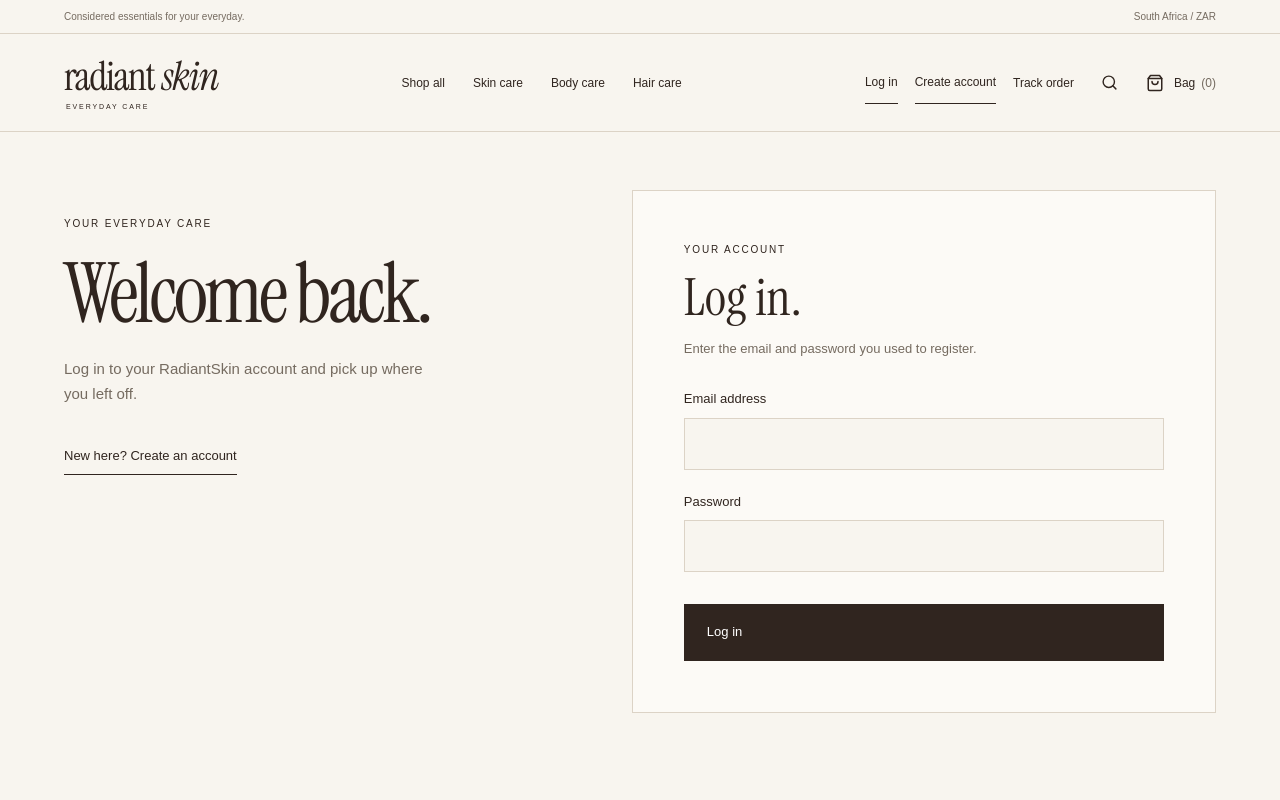
Test case: rejects an incorrect password and clears the password field
The image size is (1280, 800).
In the field labelled "Email address": (924, 444) [684,418,1164,470], type "Sam@Example.com"
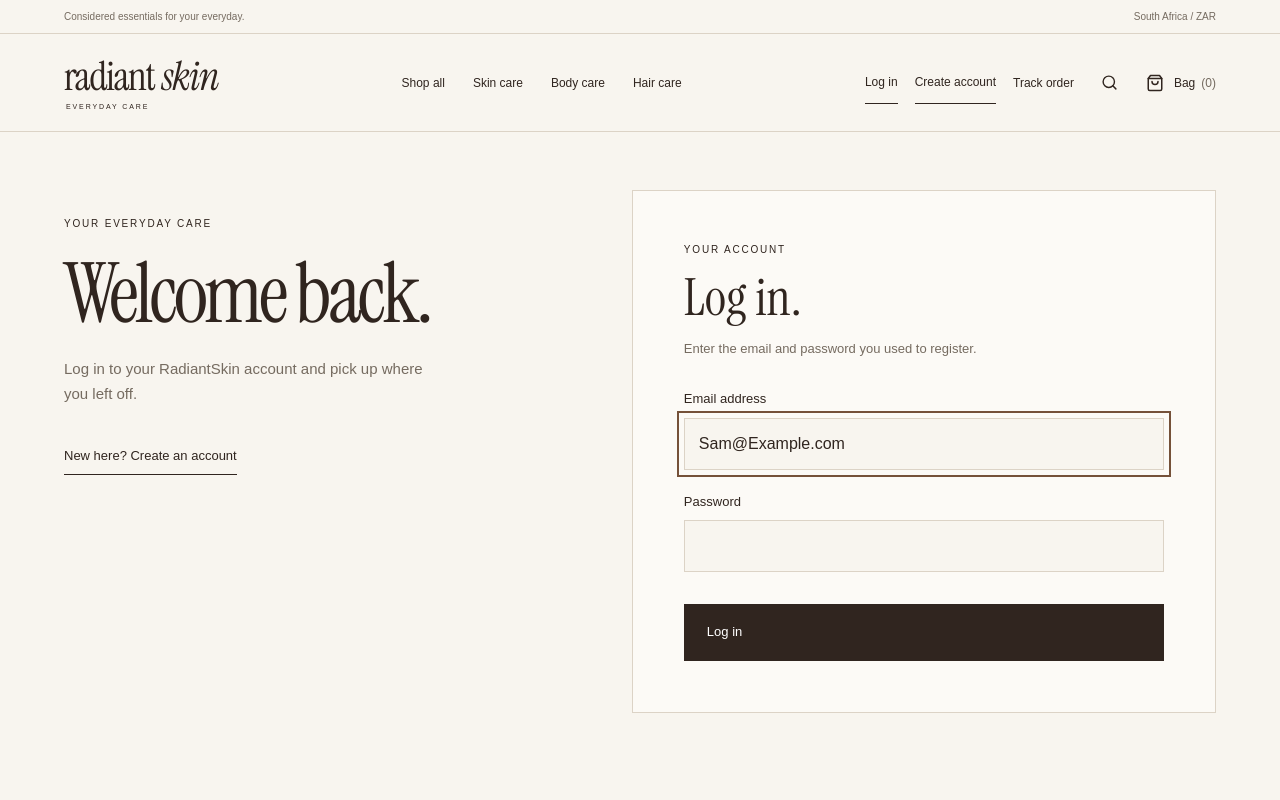
In the password field labelled "Password": (924, 546) [684,520,1164,572], type "WrongPassword"
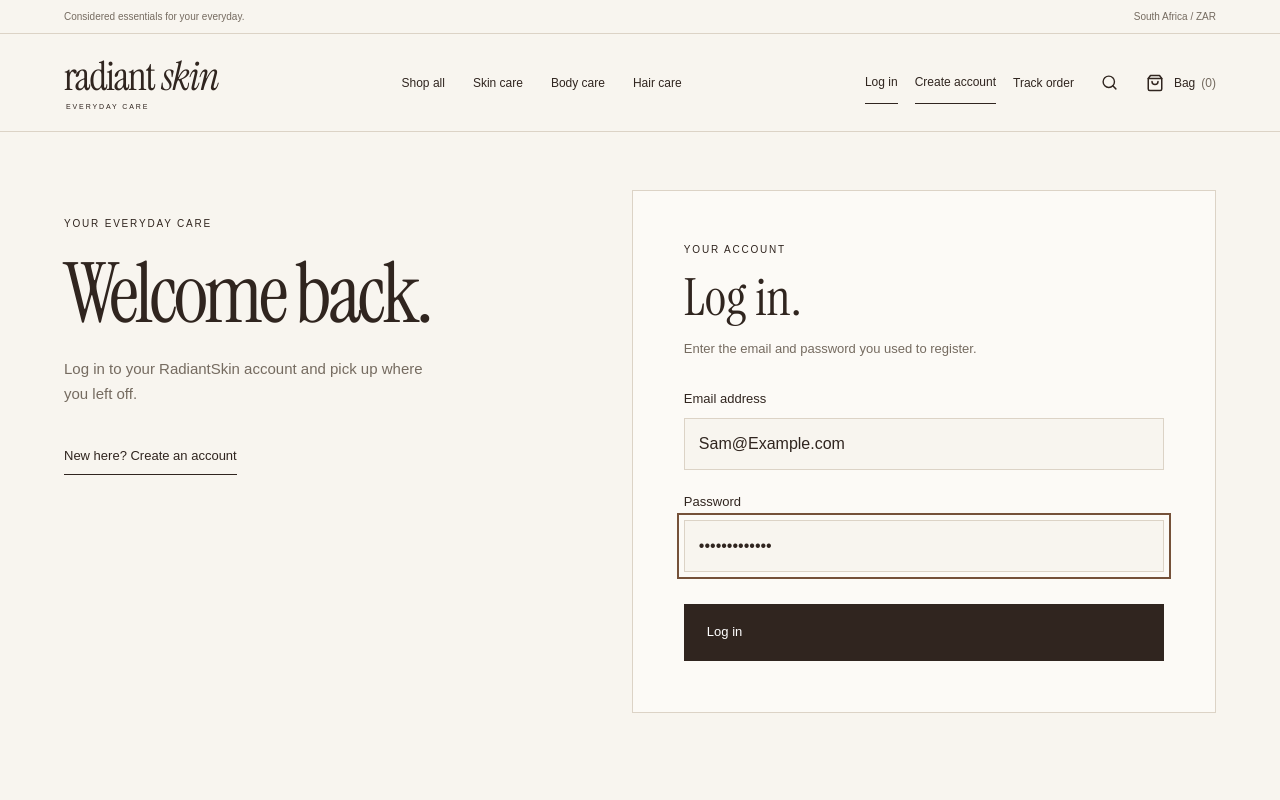
Click the button "Log in": (725, 632) [684,604,1164,661]
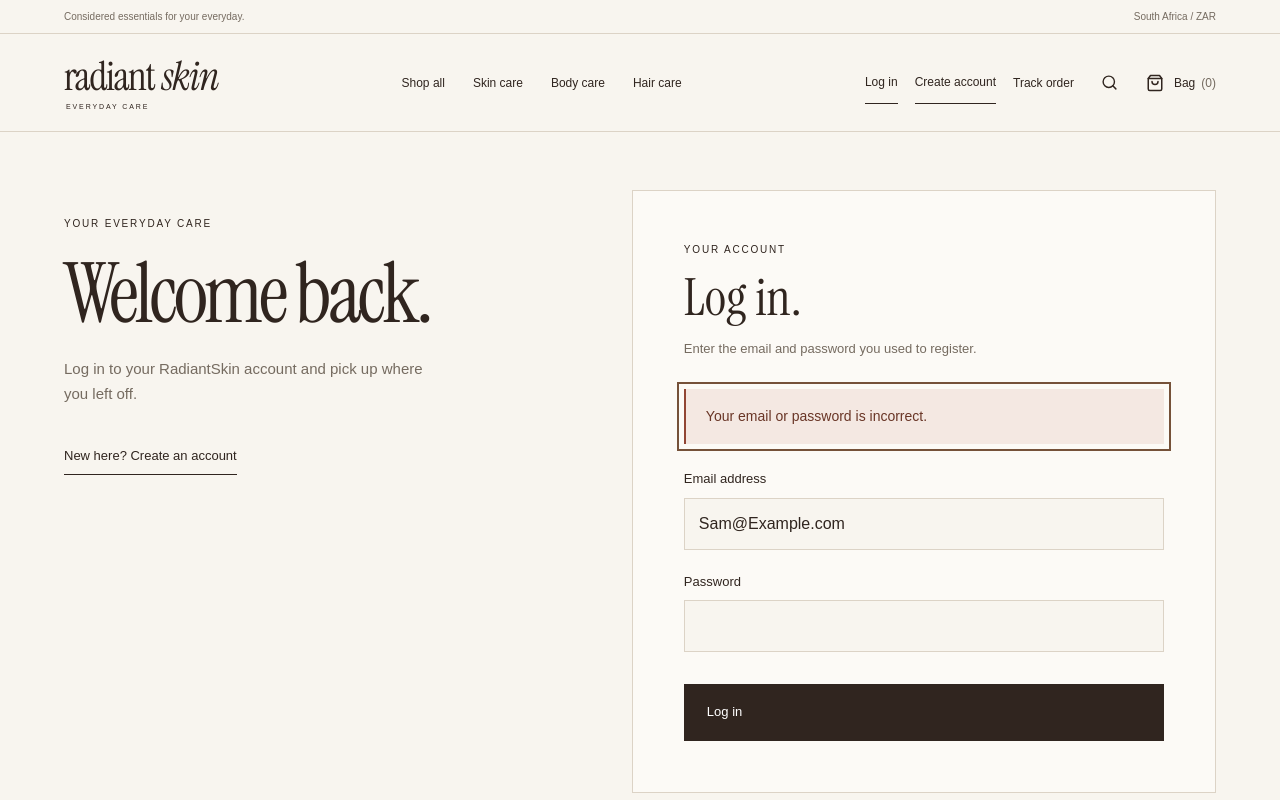
expect the message shows "email or password is incorrect": met, box [706,408,927,424]
expect the password field labelled "Password" is empty: met, box [684,600,1164,652]
